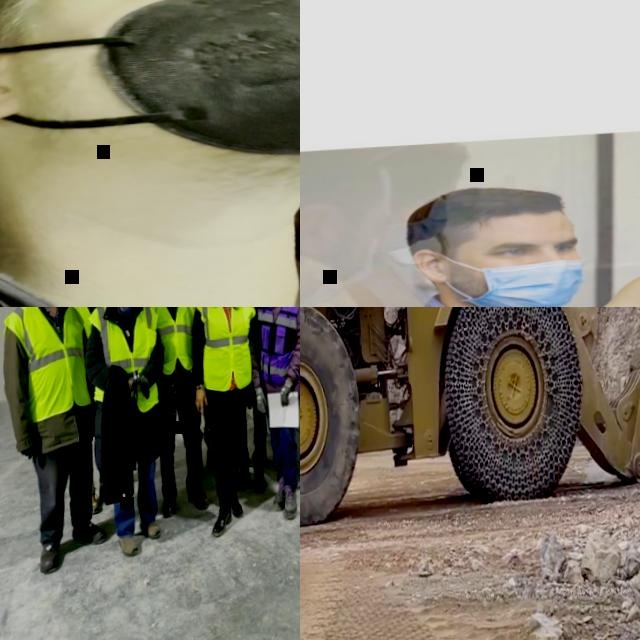Mask: (0, 0, 300, 183), (477, 256, 586, 307), (389, 197, 449, 249), (333, 243, 390, 291)
NO-Hardhat: (405, 181, 573, 246), (300, 148, 386, 206), (395, 141, 478, 189)
NO-Safety Vest: (0, 244, 300, 307)
Person: (0, 0, 300, 307), (300, 174, 640, 307), (0, 307, 116, 576), (75, 307, 177, 561), (185, 307, 269, 538), (131, 307, 215, 517), (300, 150, 394, 307), (241, 307, 300, 522), (64, 307, 121, 516), (224, 307, 279, 494), (365, 142, 466, 241), (170, 307, 226, 473), (247, 307, 289, 466)
Safety Vest: (1, 307, 95, 424), (86, 307, 164, 414), (190, 307, 261, 394), (136, 307, 207, 377), (253, 307, 300, 386), (68, 307, 114, 340)
machinery: (300, 307, 640, 533)
